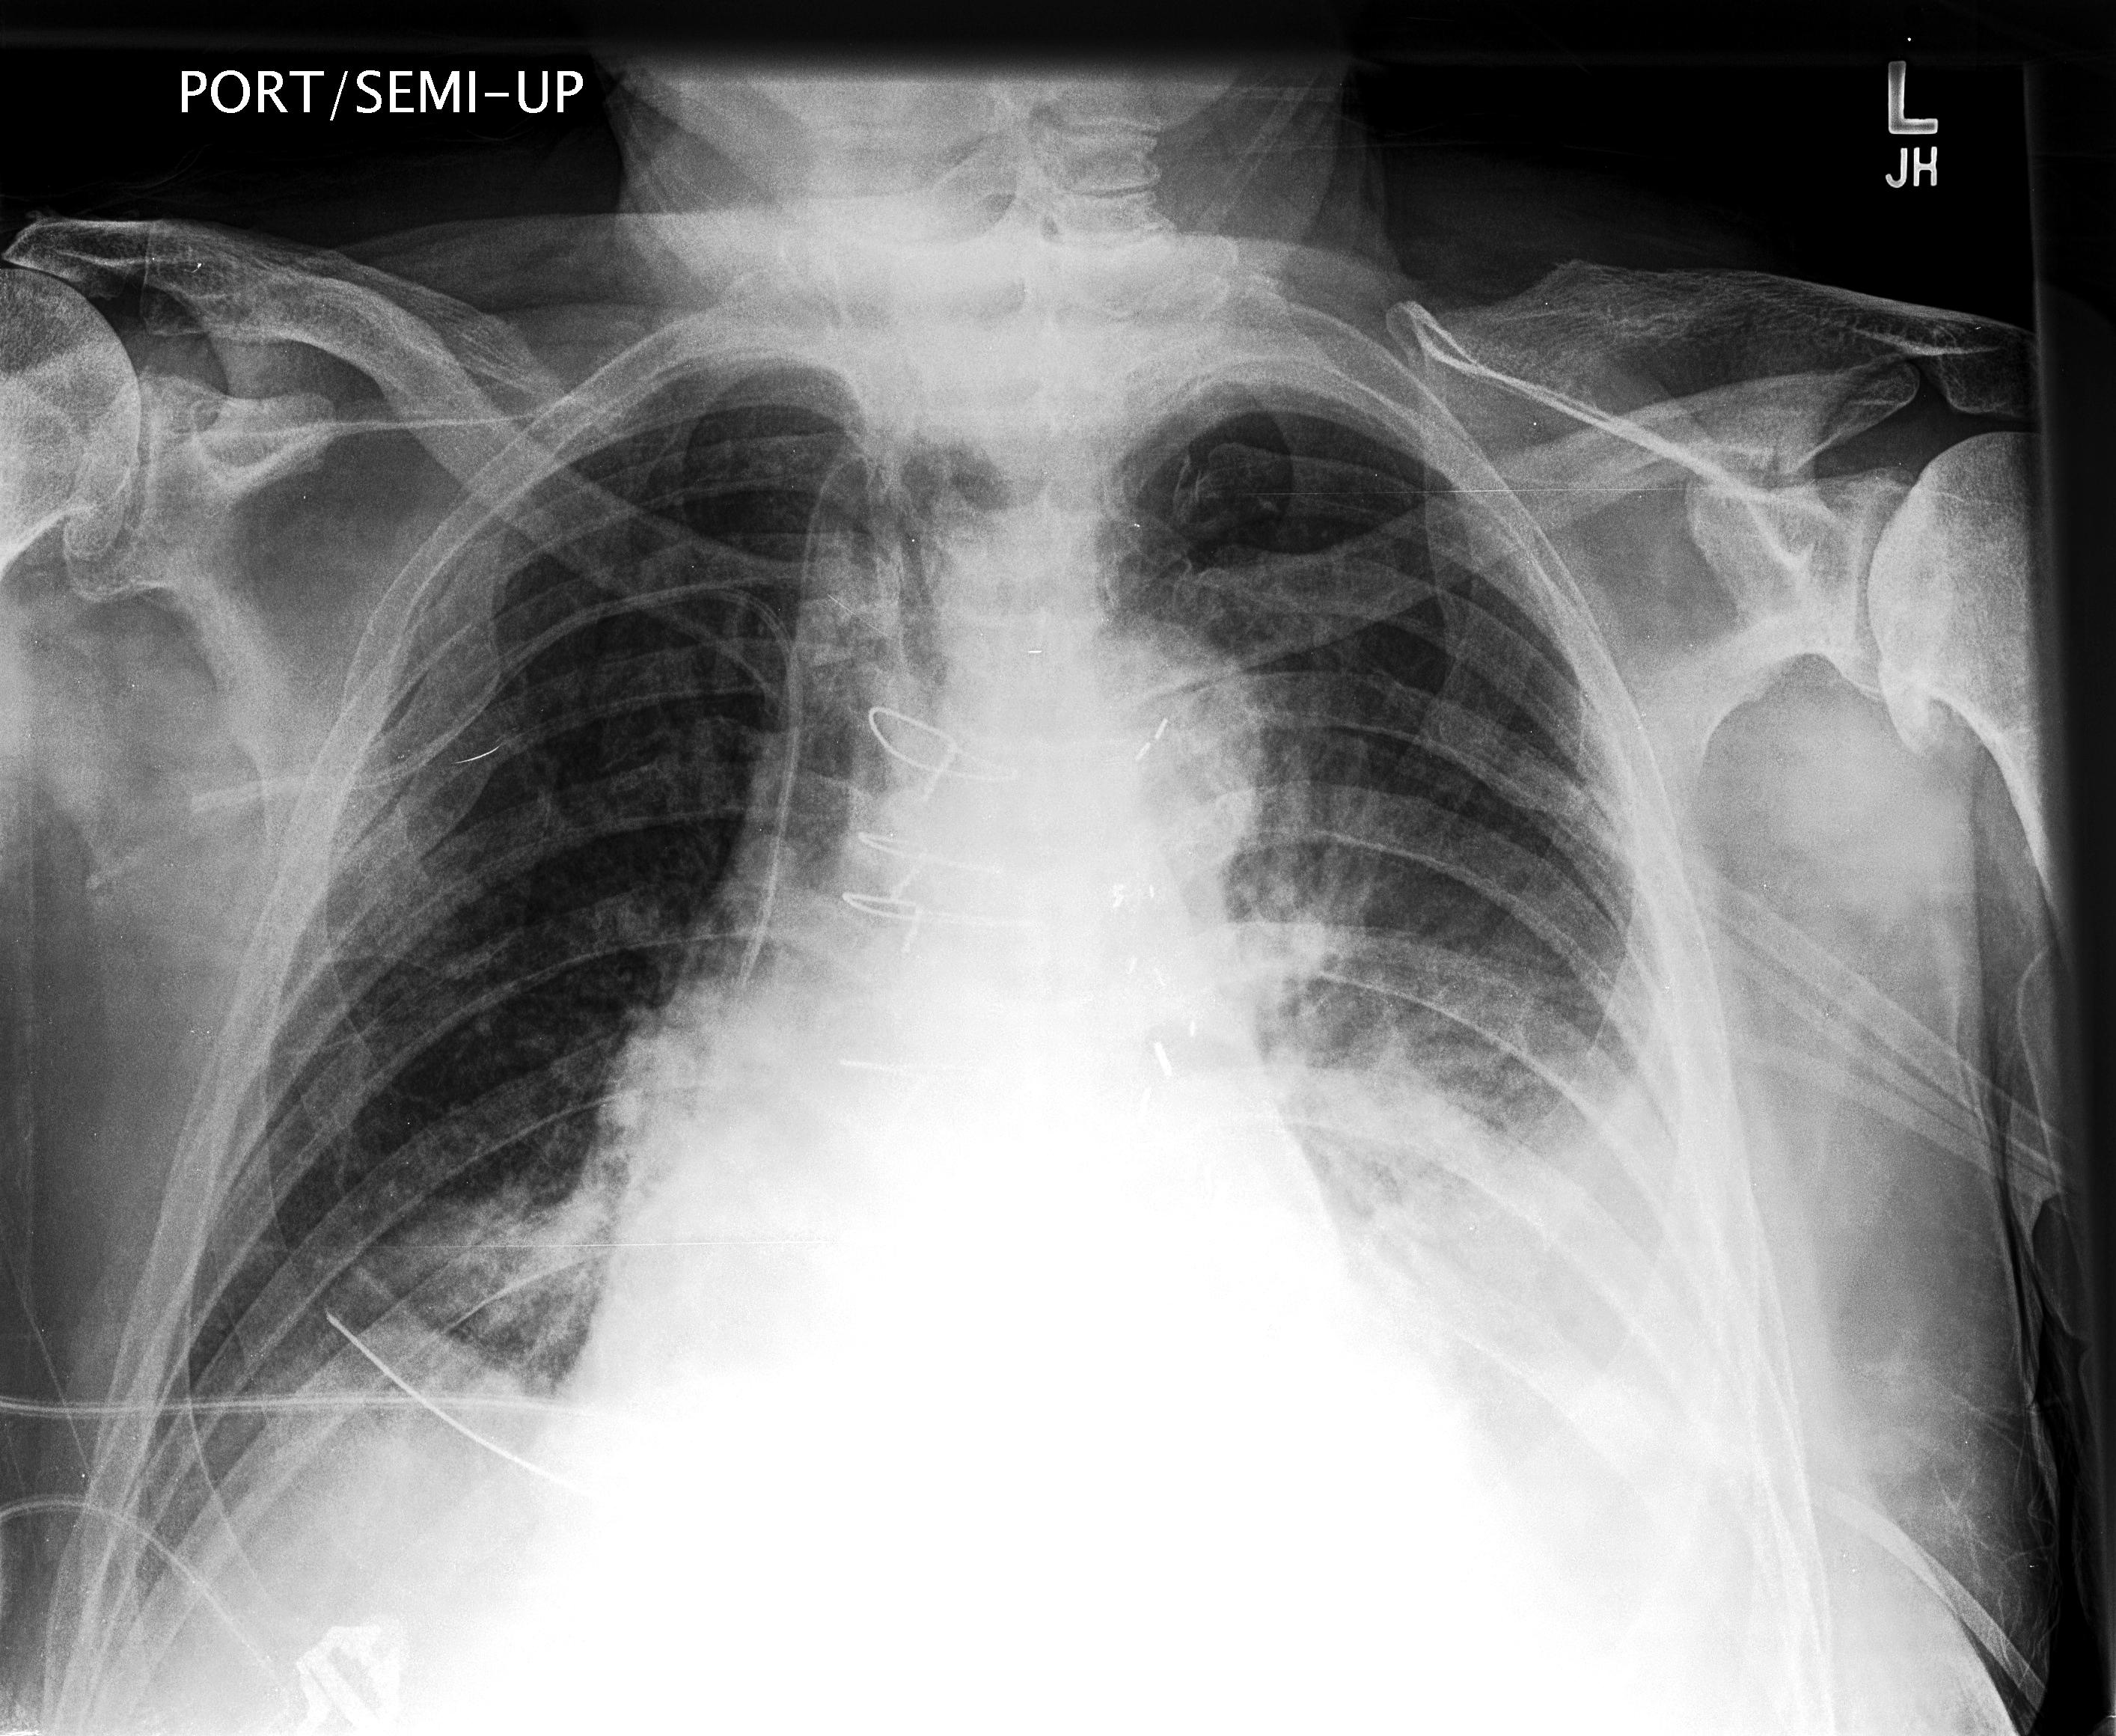Pleural Effusion: (1322, 1051, 1756, 1634)
